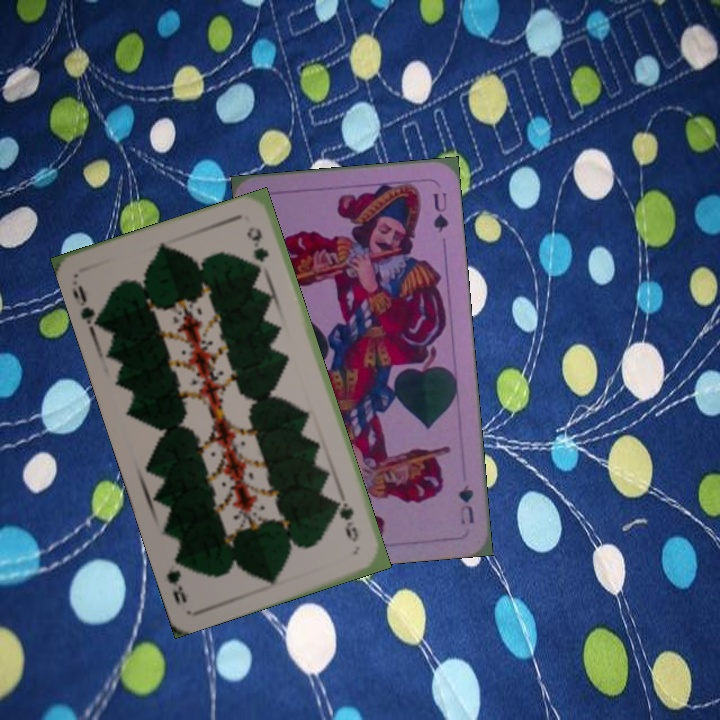G9: (68, 281, 105, 333), (332, 496, 361, 545)
GU: (454, 481, 477, 527)
